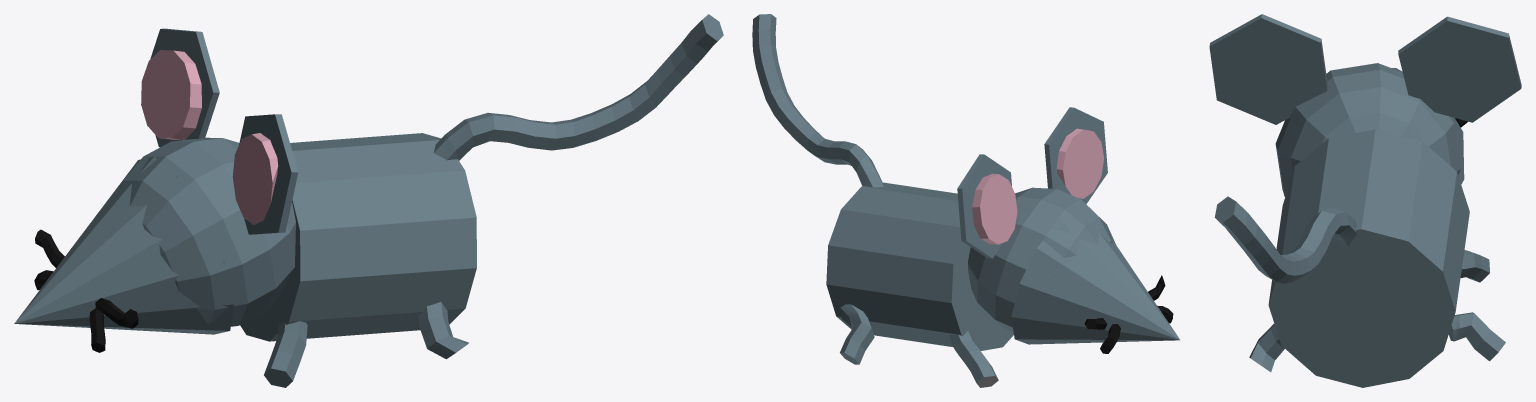
3 views of the same model, side by side, from view 1: azimuth 30°, elevation 25°; view 2: azimuth 150°, elevation 25°; view 3: azimuth 270°, elevation 25° (orthographic). The views are drawn at different scales.
Visible parts, largest first — view 1: node_MeshObject-1598431232-PolyPaper21; view 2: node_MeshObject-1598431232-PolyPaper21; view 3: node_MeshObject-1598431232-PolyPaper21.
Part boxes in pixels (x1,y1,x2,y2): node_MeshObject-1598431232-PolyPaper21: [14, 14, 723, 387]; node_MeshObject-1598431232-PolyPaper21: [752, 14, 1179, 387]; node_MeshObject-1598431232-PolyPaper21: [1209, 14, 1521, 387].
Size of the model in its own units: 0.4778 by 0.2202 by 0.2161.
